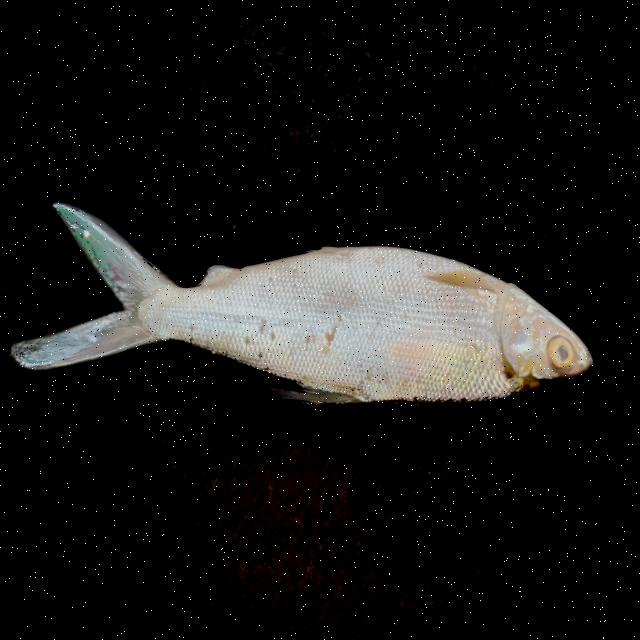675 g: (11, 188, 606, 454)
